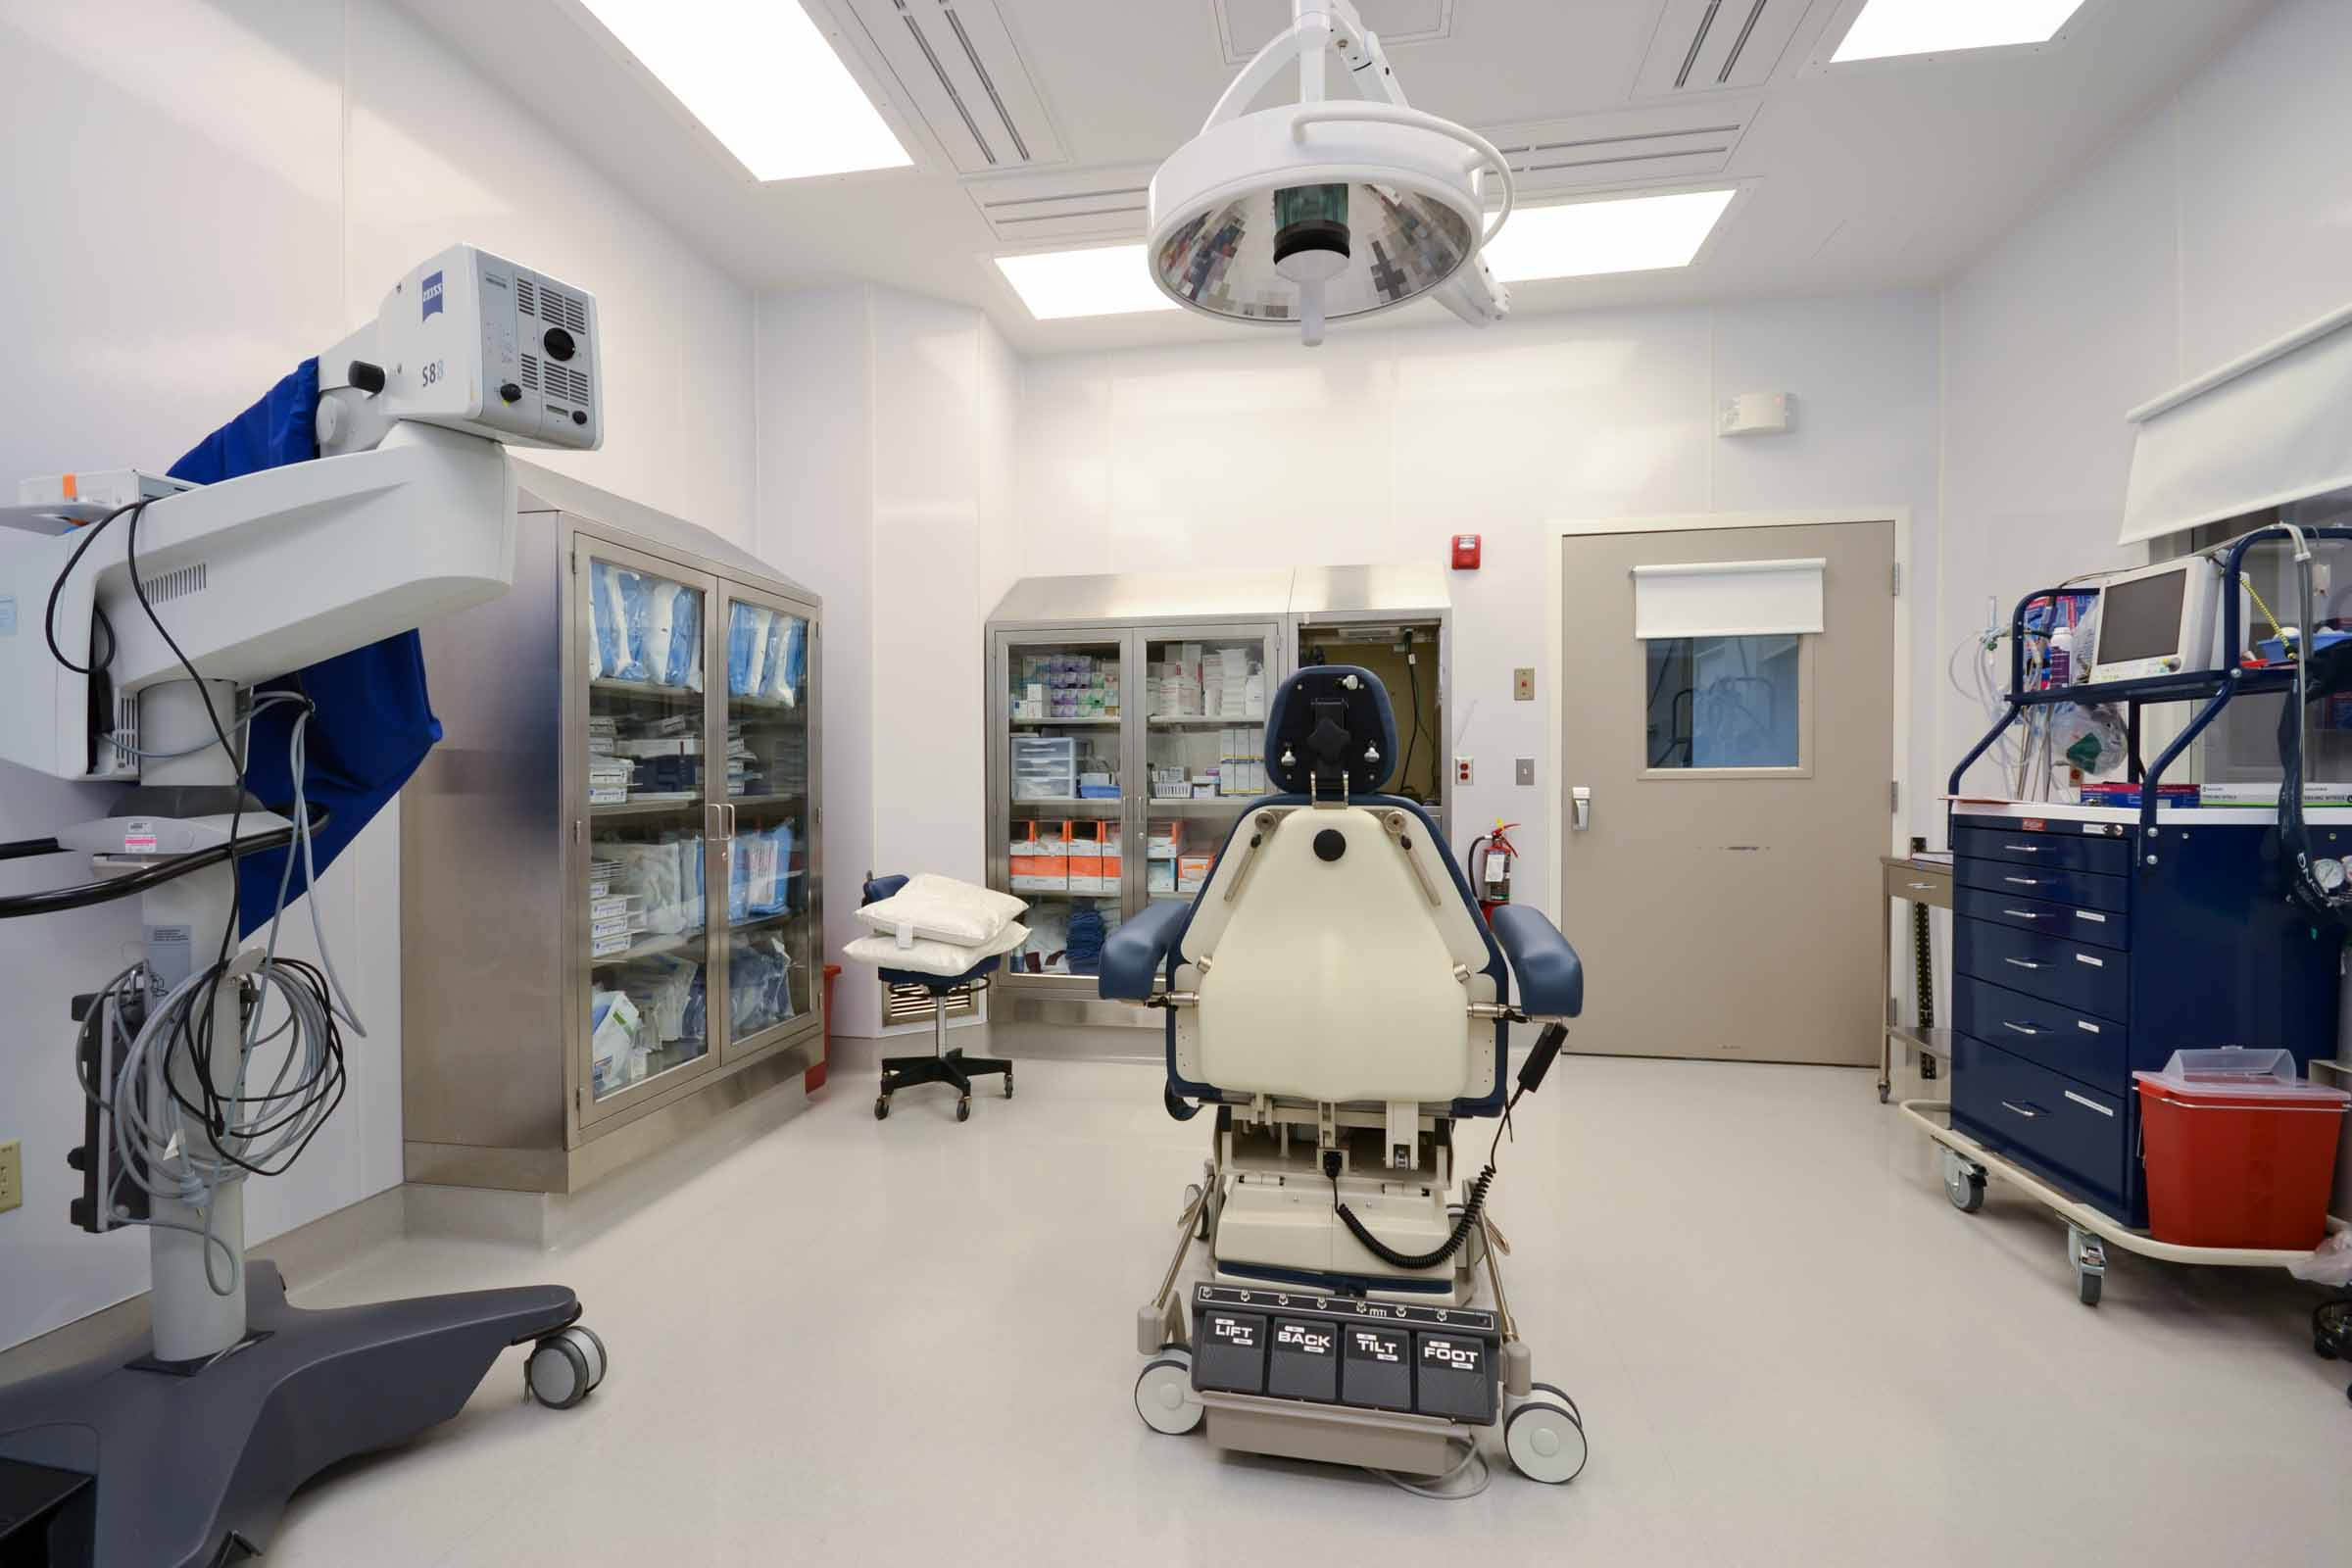bedside_table: (2077, 555, 2243, 712)
cabinet: (362, 458, 835, 1200), (980, 562, 1456, 1052)
chair: (852, 856, 1013, 1122)
door_handle: (1566, 786, 1598, 835)
exam_table: (1146, 669, 1571, 1409)
handle: (723, 803, 738, 843), (705, 805, 721, 845), (1999, 1101, 2041, 1115), (1999, 1022, 2041, 1034), (2002, 906, 2044, 919), (2002, 957, 2044, 969), (2002, 875, 2044, 887), (2000, 842, 2042, 854), (1904, 882, 1937, 892), (1136, 794, 1146, 822), (1122, 793, 1130, 821)
medical_drawer: (1946, 791, 2352, 1171)
surgical_light: (1137, 2, 1519, 350)
utility_cart: (1883, 838, 1946, 1104)
